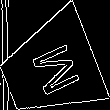M_SW: (21, 38, 79, 100)
